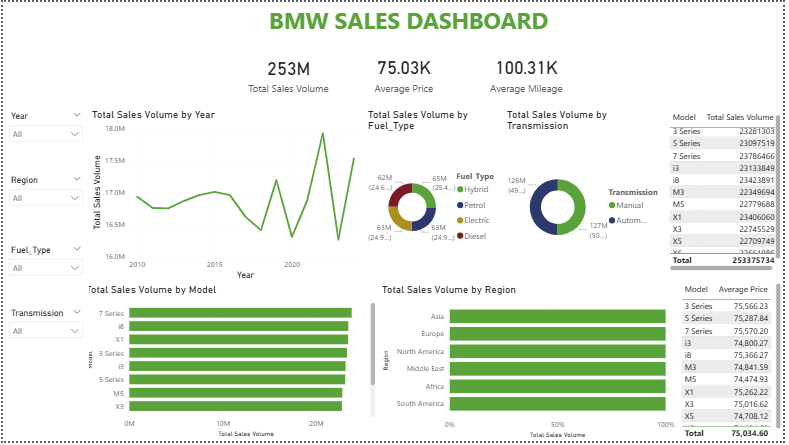

Layout of this report page (visuals, bound fields, positions):
{"tool":"powerbi","page":{"name":"Page 1","canvas":[1280,720],"ordinal":0},"visuals":[{"type":"lineChart","fields":{"Category":["bmw sales data.Year"],"Y":["bmw sales data.Total Sales Volume"]},"box":[140.6,173.9,452.2,287],"z":0},{"type":"barChart","fields":{"Category":["bmw sales data.Model"],"Y":["bmw sales data.Total Sales Volume"]},"box":[131.9,460.9,484.1,258],"z":1000},{"type":"card","fields":{"Values":["bmw sales data.Total Sales Volume"]},"box":[358.2,61.2,217.9,113.4],"z":2000},{"type":"card","fields":{"Values":["bmw sales data.Average Price"]},"box":[546.3,59.7,222.4,114.9],"z":3000},{"type":"card","fields":{"Values":["bmw sales data.Average Mileage"]},"box":[768.7,43.3,177.6,149.3],"z":4000},{"type":"hundredPercentStackedBarChart","fields":{"Category":["bmw sales data.Region"],"Y":["bmw sales data.Total Sales Volume"]},"box":[615.9,460.9,489.9,259.4],"z":5000},{"type":"donutChart","fields":{"Category":["bmw sales data.Fuel_Type"],"Y":["bmw sales data.Total Sales Volume"]},"box":[592.8,173.9,234.8,287],"z":6000},{"type":"donutChart","fields":{"Category":["bmw sales data.Transmission"],"Y":["bmw sales data.Total Sales Volume"]},"box":[821.7,173.9,265.2,287],"z":7000},{"type":"slicer","fields":{"Values":["bmw sales data.Year"]},"box":[0,173.9,140.6,104.3],"z":8000},{"type":"slicer","fields":{"Values":["bmw sales data.Region"]},"box":[0,278.3,140.6,115.9],"z":9000},{"type":"slicer","fields":{"Values":["bmw sales data.Fuel_Type"]},"box":[0,394.2,140.6,102.9],"z":10000},{"type":"slicer","fields":{"Values":["bmw sales data.Transmission"]},"box":[0,497.1,140.6,107.2],"z":11000},{"type":"textbox","box":[430.4,0,523.2,73.9],"z":12001},{"type":"tableEx","fields":{"Values":["bmw sales data.Model","bmw sales data.Total Sales Volume"]},"box":[1087,173.9,192.8,272.5],"z":12002},{"type":"tableEx","fields":{"Values":["bmw sales data.Model","bmw sales data.Average Price"]},"box":[1105.8,455.1,173.9,263.8],"z":12003}]}

Visuals, with their boxes in screenshot pixels (x1, y1, x2, y2), scaled from the page's 1280x720 canvas onto the 789x445 screenshot:
lineChart - bmw sales data.Year x bmw sales data.Total Sales Volume: (left=87, top=107, right=365, bottom=285)
barChart - bmw sales data.Model x bmw sales data.Total Sales Volume: (left=81, top=285, right=380, bottom=444)
card - bmw sales data.Total Sales Volume: (left=221, top=38, right=355, bottom=108)
card - bmw sales data.Average Price: (left=337, top=37, right=474, bottom=108)
card - bmw sales data.Average Mileage: (left=474, top=27, right=583, bottom=119)
hundredPercentStackedBarChart - bmw sales data.Region x bmw sales data.Total Sales Volume: (left=380, top=285, right=682, bottom=444)
donutChart - bmw sales data.Fuel_Type x bmw sales data.Total Sales Volume: (left=365, top=107, right=510, bottom=285)
donutChart - bmw sales data.Transmission x bmw sales data.Total Sales Volume: (left=507, top=107, right=670, bottom=285)
slicer - bmw sales data.Year: (left=0, top=107, right=87, bottom=172)
slicer - bmw sales data.Region: (left=0, top=172, right=87, bottom=244)
slicer - bmw sales data.Fuel_Type: (left=0, top=244, right=87, bottom=307)
slicer - bmw sales data.Transmission: (left=0, top=307, right=87, bottom=373)
textbox: (left=265, top=0, right=588, bottom=46)
tableEx - bmw sales data.Model x bmw sales data.Total Sales Volume: (left=670, top=107, right=788, bottom=276)
tableEx - bmw sales data.Model x bmw sales data.Average Price: (left=682, top=281, right=788, bottom=444)
